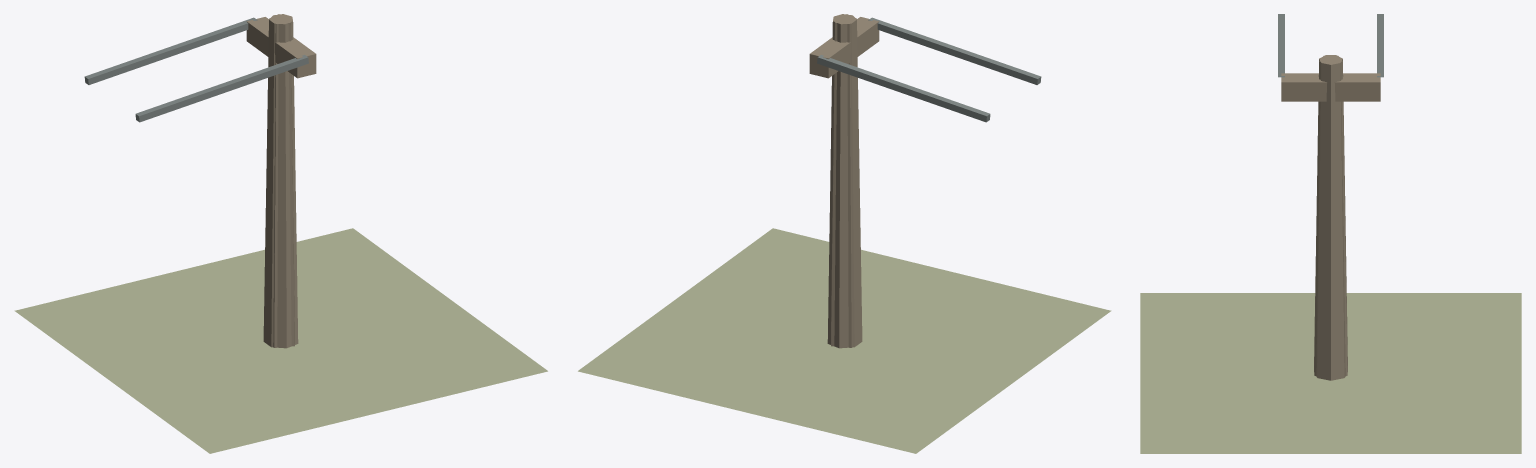
3 views of the same model, side by side, from view 1: azimuth 30°, elevation 25°; view 2: azimuth 150°, elevation 25°; view 3: azimuth 270°, elevation 25° (orthographic). The views are drawn at different scales.
Parts seen in each view (by area): view 1: Near, Far; view 2: Near, Far; view 3: Near, Far.
Part boxes in pixels (x1=…): Near: x1=14, y1=14, x2=547, y2=453; Far: x1=269, y1=14, x2=294, y2=347; Near: x1=578, y1=14, x2=1111, y2=453; Far: x1=831, y1=14, x2=856, y2=347; Near: x1=1140, y1=14, x2=1521, y2=453; Far: x1=1314, y1=56, x2=1347, y2=375.
Bounding box in the file's own units: 1 × 0.91 × 1.
